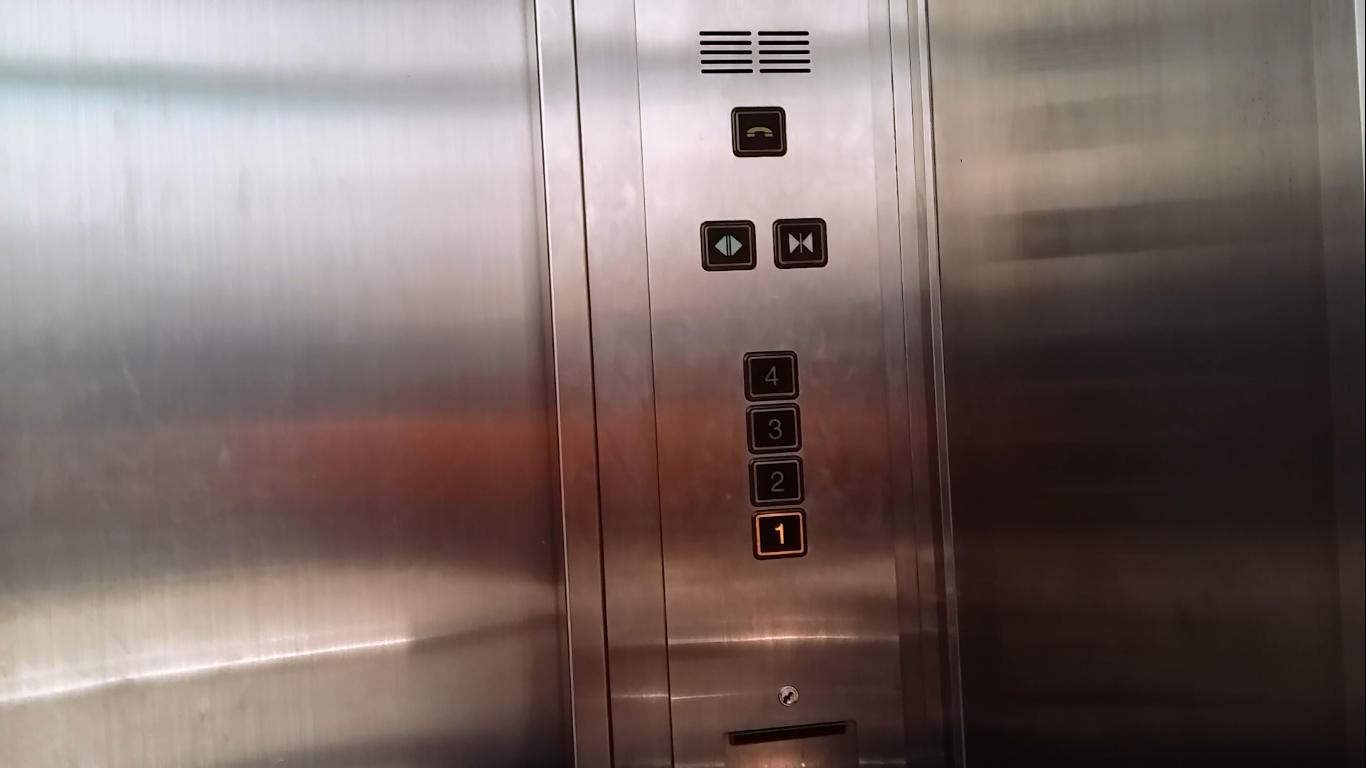1: (748, 506, 810, 563)
2: (746, 454, 807, 509)
3: (743, 400, 804, 457)
4: (740, 348, 803, 403)
call: (728, 103, 790, 161)
close: (768, 215, 830, 272)
keyhole: (776, 682, 801, 711)
open: (696, 217, 759, 275)
